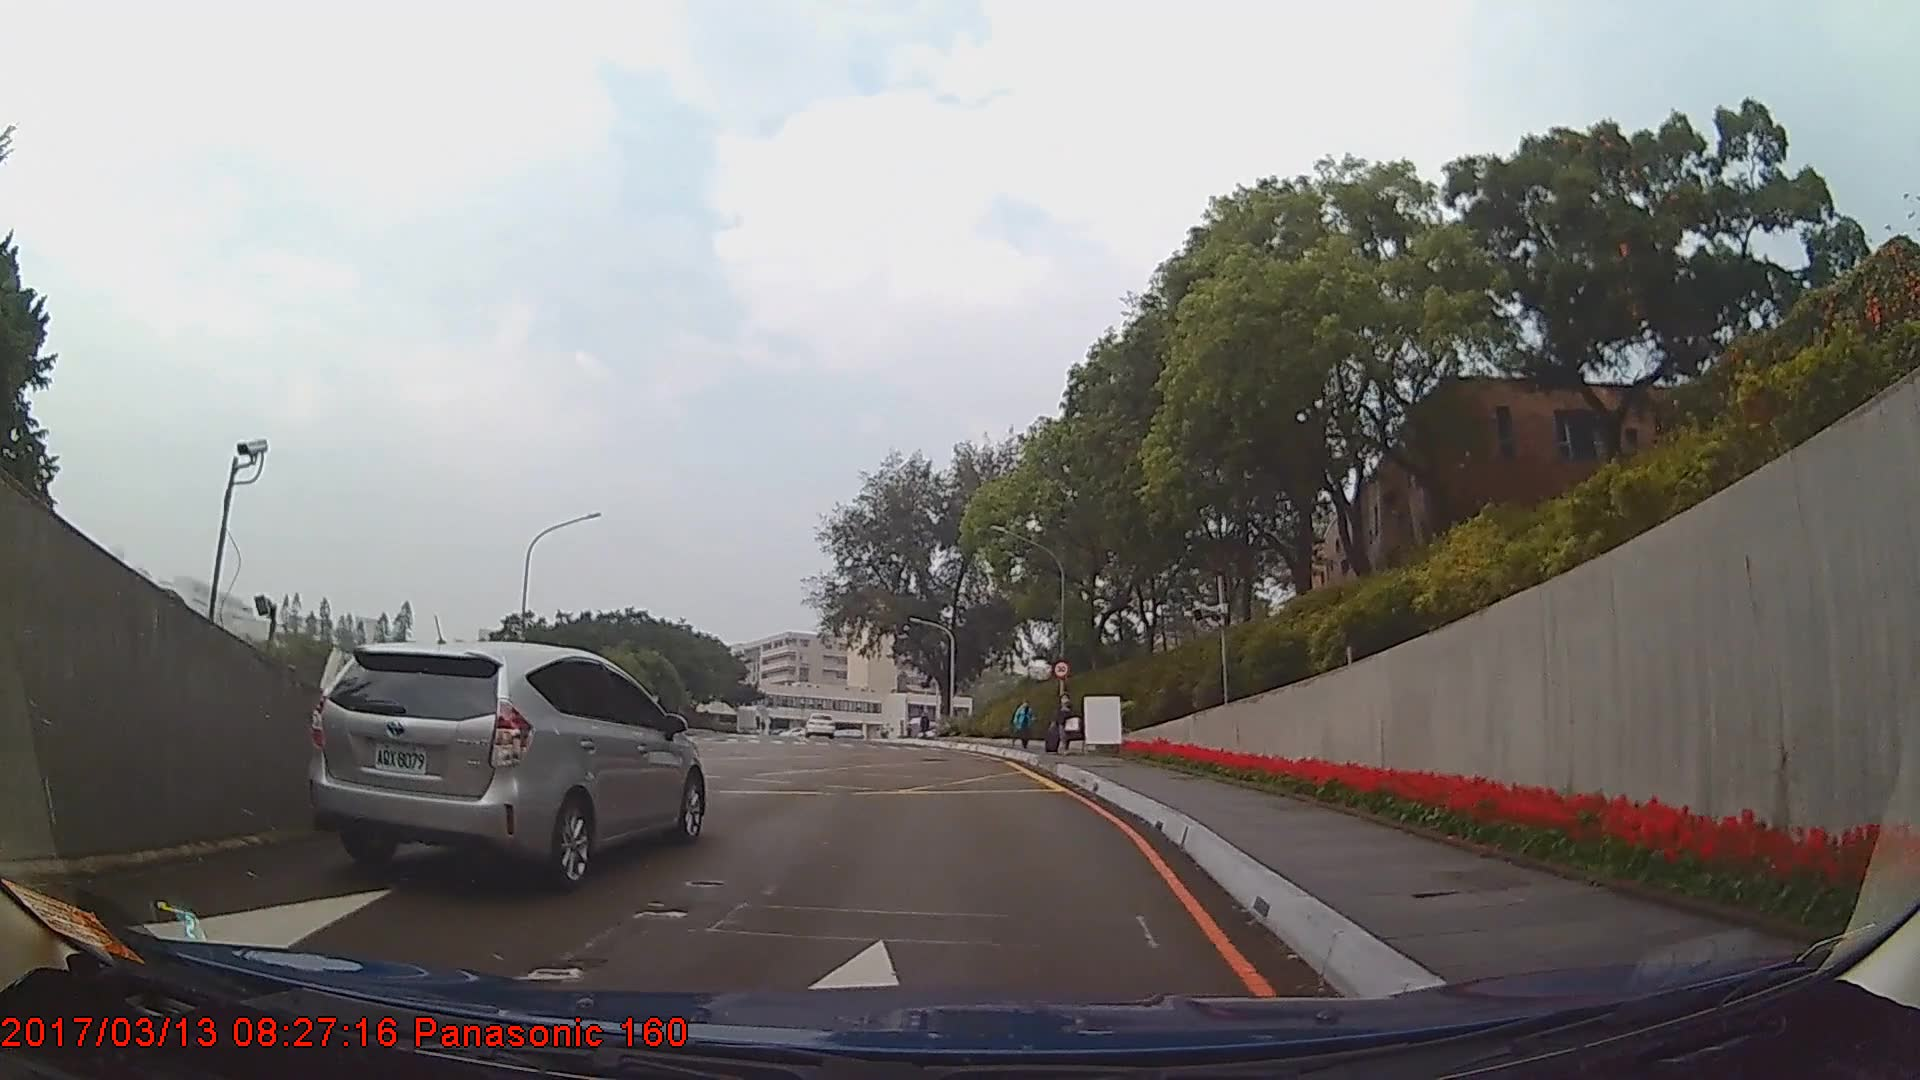pedestrian: (1045, 693, 1083, 758), (1015, 702, 1037, 755)
vehicle: (302, 642, 706, 889), (803, 711, 834, 738)
